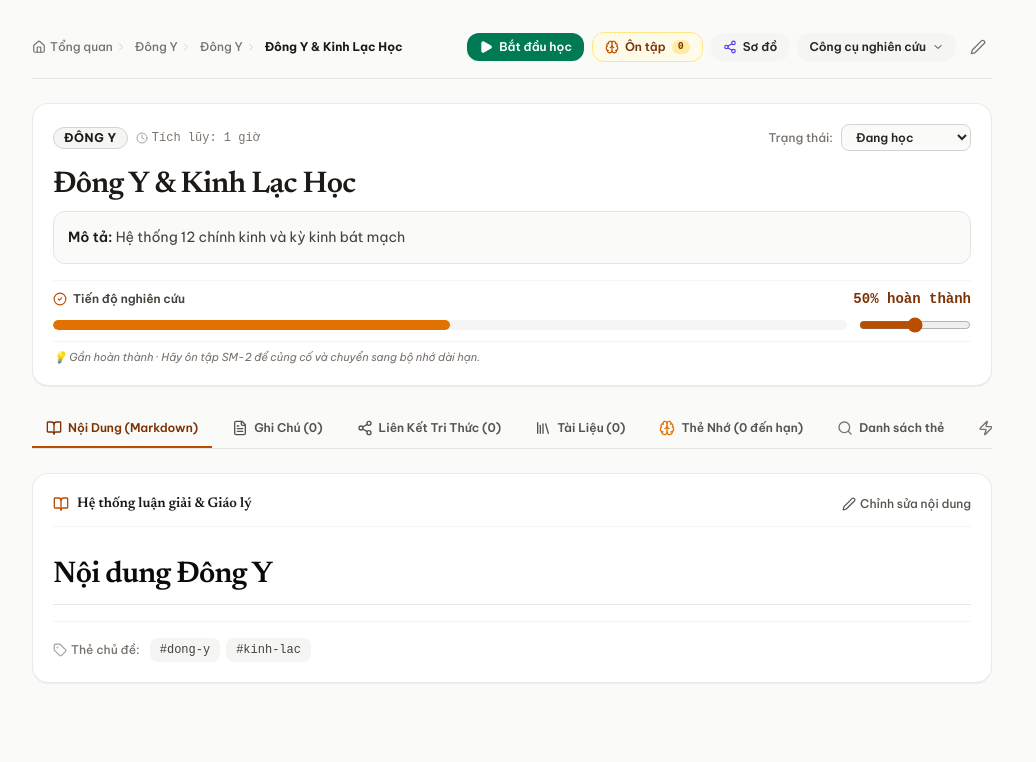
it: Topic Detail — Study Launcher Integration (Phase F6.6) › 2. renders shortcut button 'btn-open-study-launcher' in flashcard hub
The width and height of the screenshot is (1036, 762).
# Switch to flashcards tab
Click the button with test id "tab-btn-flashcards" at (731, 429), box [646,410,817,448]
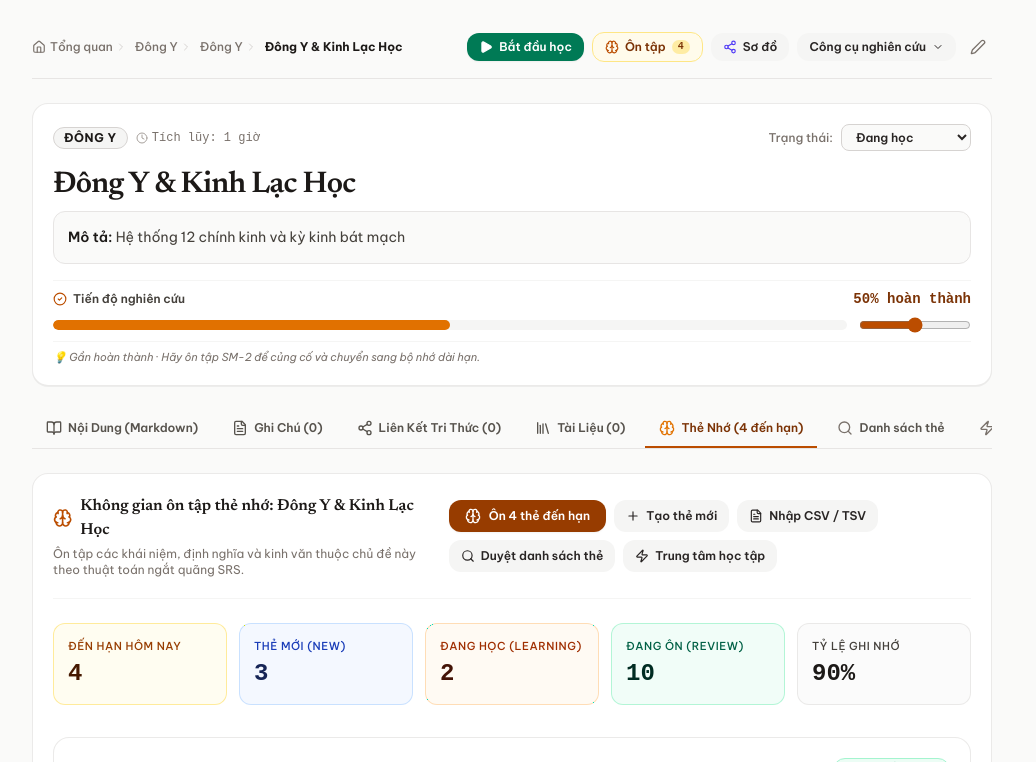
Expected: the button with test id "btn-open-study-launcher" is shown, [623,540,777,572]
